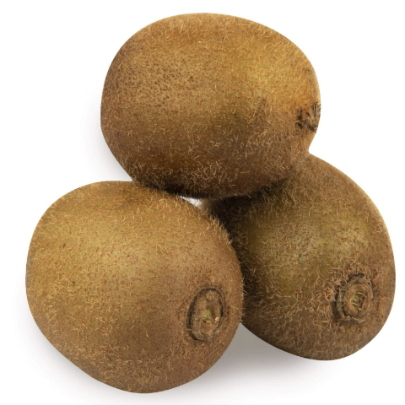kiwi: (12, 165, 265, 400), (79, 2, 324, 204), (191, 154, 387, 384)
